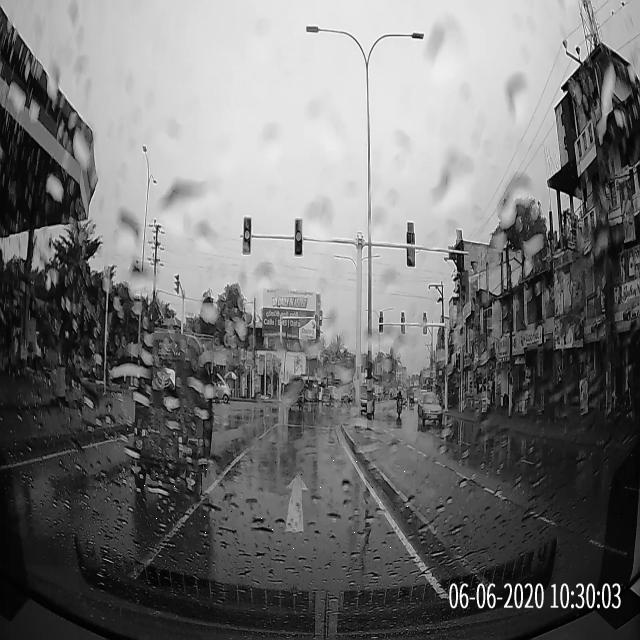forward: (142, 453, 420, 555)
